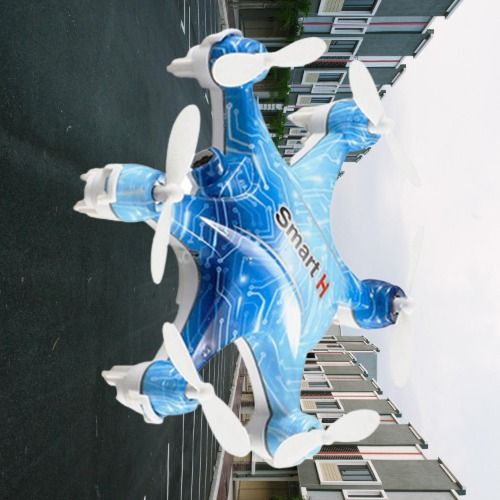drone: (74, 27, 419, 468)
